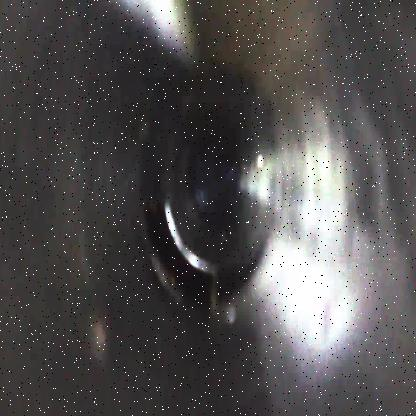Crack2: (142, 193, 217, 318)
